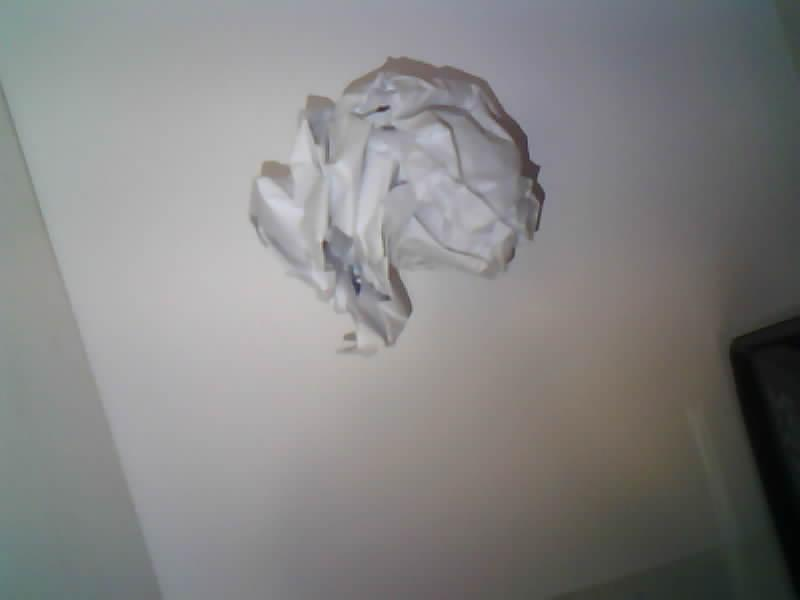biodegradable: (250, 68, 540, 351)
